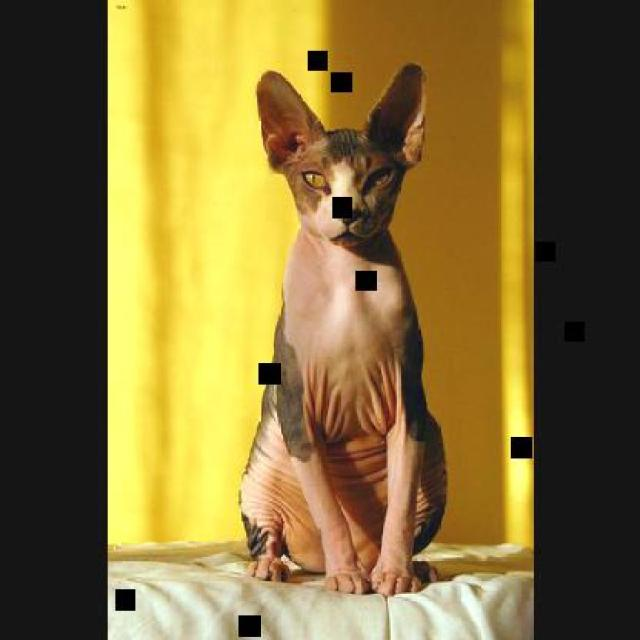unauthorized: (237, 62, 448, 596)
